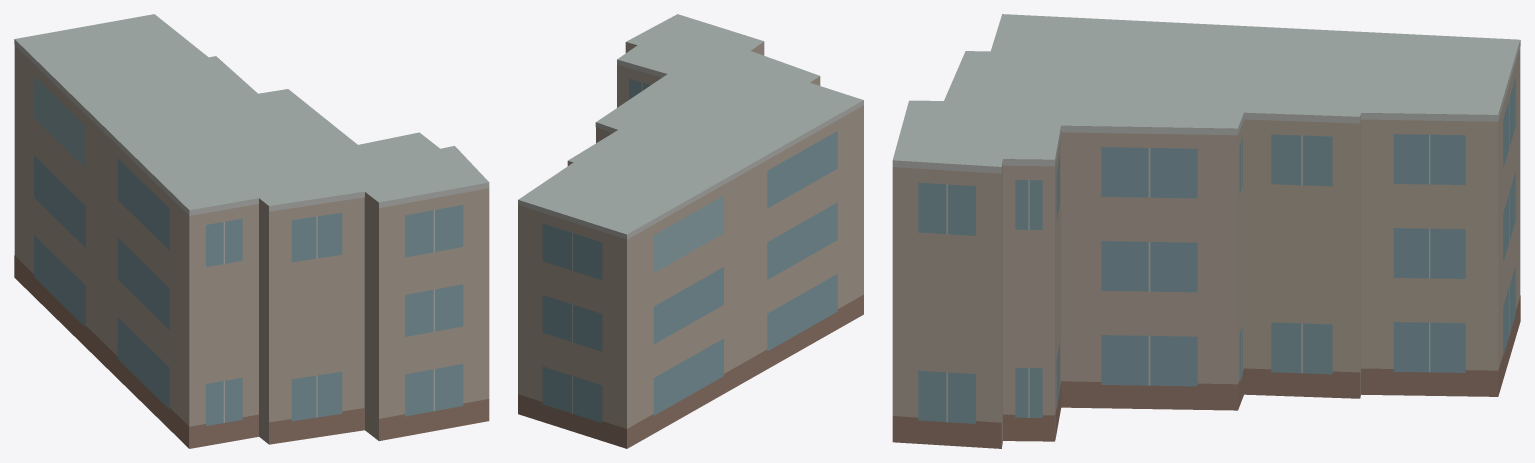
File: survey-upis-32675784.glb
The picture shows the model from 3 angles, left to right: view 1: azimuth 30°, elevation 25°; view 2: azimuth 150°, elevation 25°; view 3: azimuth 270°, elevation 25°; orthographic projection. The views are drawn at different scales.
Parts seen in each view (by area): view 1: survey-upis-32675784.tmp; view 2: survey-upis-32675784.tmp; view 3: survey-upis-32675784.tmp.
Boxes of the visible parts, box(x1,y1,x2,y2) form: survey-upis-32675784.tmp: box(14, 14, 489, 448); survey-upis-32675784.tmp: box(518, 14, 863, 448); survey-upis-32675784.tmp: box(892, 14, 1520, 448).
Bounding box in the file's own units: 11.88 × 10.2 × 20.6.
